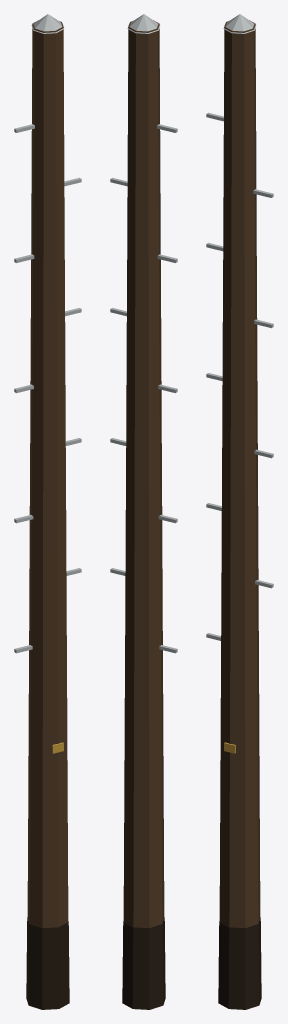
Rendered from kit.pole.glb.
3 views of the same model, side by side, from view 1: azimuth 30°, elevation 25°; view 2: azimuth 150°, elevation 25°; view 3: azimuth 330°, elevation 25° (orthographic).
Parts seen in each view (by area): view 1: pole, creosote, cap; view 2: pole, creosote, cap; view 3: pole, creosote, cap.
Boxes of the visible parts, bbox=[...] form: pole: bbox=[27, 20, 68, 927]; creosote: bbox=[26, 917, 69, 1009]; cap: bbox=[31, 14, 64, 33]; pole: bbox=[123, 20, 164, 927]; creosote: bbox=[122, 917, 165, 1009]; cap: bbox=[127, 14, 160, 33]; pole: bbox=[219, 20, 260, 927]; creosote: bbox=[218, 917, 261, 1009]; cap: bbox=[223, 14, 256, 33].
Bounding box in the file's own units: 0.42 × 6.07 × 0.25.
